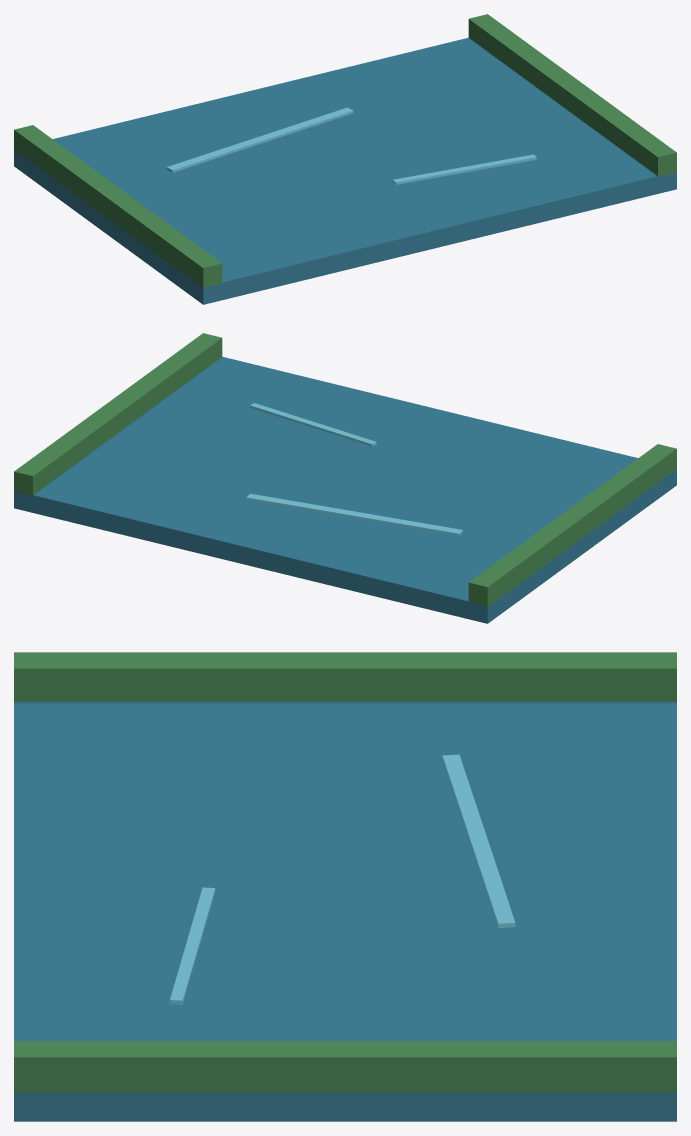
Rendered from track_boat_2lane.glb.
The picture shows the model from 3 angles, top to bottom: view 1: azimuth 30°, elevation 25°; view 2: azimuth 150°, elevation 25°; view 3: azimuth 270°, elevation 25°; orthographic projection. The views are drawn at different scales.
Visible parts, largest first — view 1: track_boat_2lane; view 2: track_boat_2lane; view 3: track_boat_2lane.
Boxes of the visible parts, bbox=[...] form: track_boat_2lane: bbox=[14, 14, 676, 304]; track_boat_2lane: bbox=[14, 333, 676, 623]; track_boat_2lane: bbox=[14, 652, 676, 1121].
Bounding box in the file's own units: 4.45 × 0.33 × 3.08.
